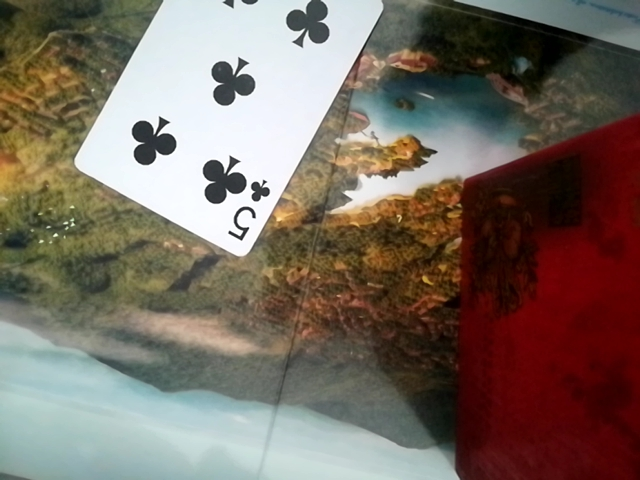mh 5: (74, 2, 387, 257)
